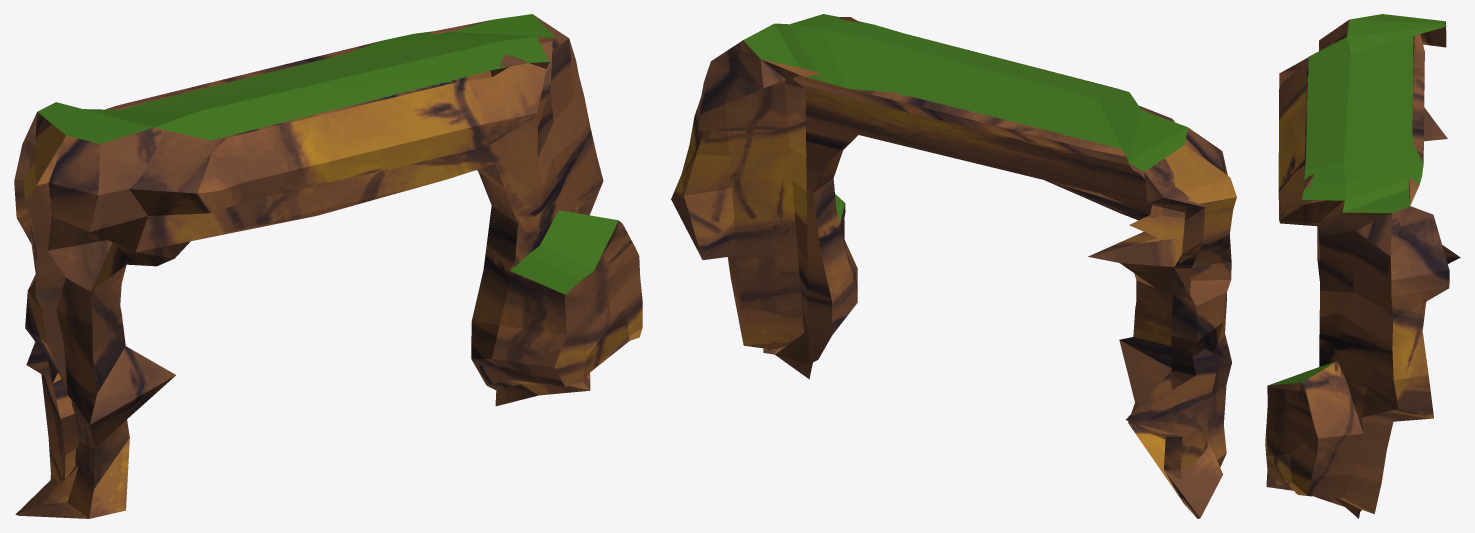
File: sali61.obj
3 renders of one model, left to right at view 1: azimuth 30°, elevation 25°; view 2: azimuth 150°, elevation 25°; view 3: azimuth 270°, elevation 25°, orthographic. The views are drawn at different scales.
Parts seen in each view (by area): view 1: Plane.030_Plane.027; view 2: Plane.030_Plane.027; view 3: Plane.030_Plane.027.
Part boxes in pixels (x1,y1,x2,y2): Plane.030_Plane.027: (14, 14, 642, 518); Plane.030_Plane.027: (671, 14, 1236, 518); Plane.030_Plane.027: (1265, 14, 1460, 518).
Size of the model in its own units: 360 by 230 by 117.
1 material, 1 textured.
